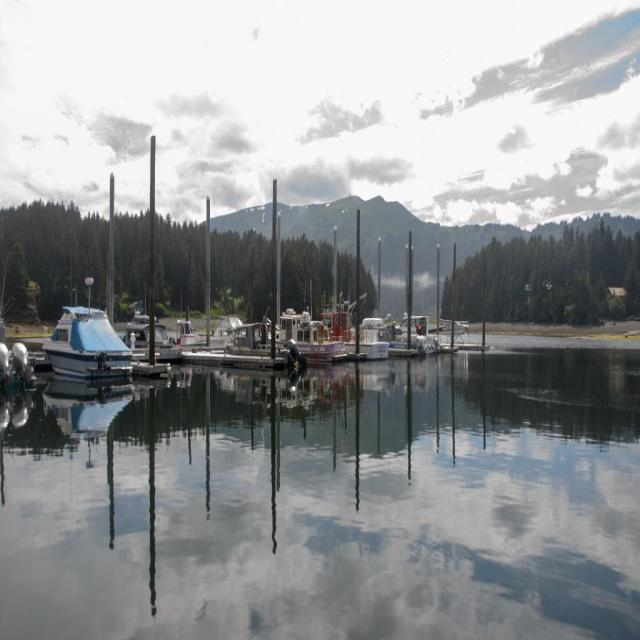Boat: (0, 255, 470, 388), (34, 293, 138, 375)
